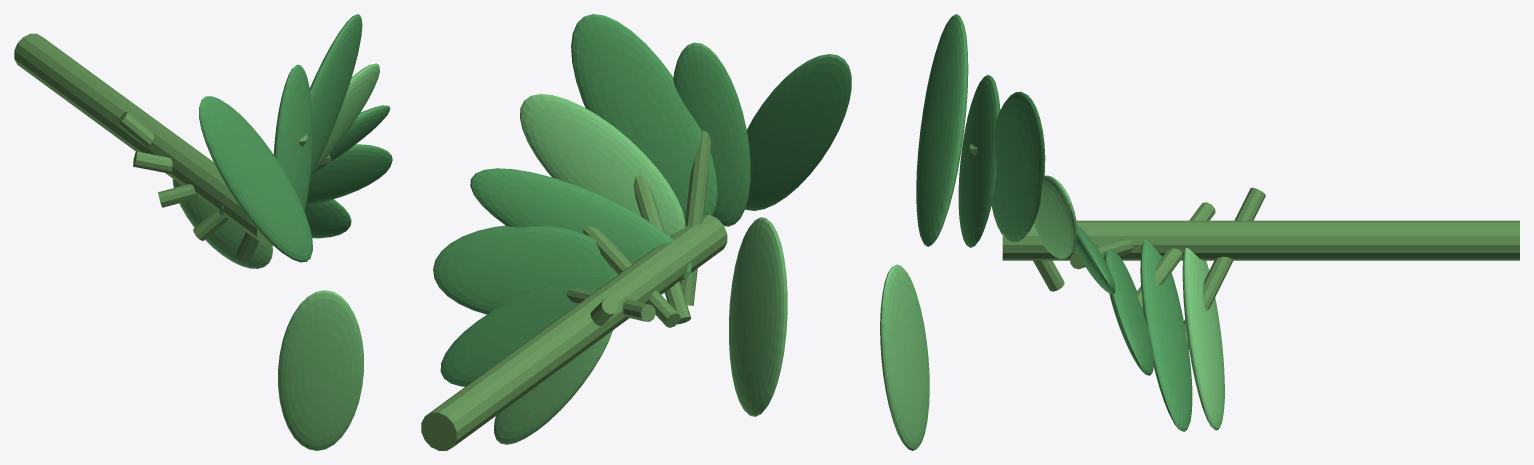
The model's file is potato_haulm.glb.
3 renders of one model, left to right at view 1: azimuth 30°, elevation 25°; view 2: azimuth 150°, elevation 25°; view 3: azimuth 270°, elevation 25°, orthographic. The views are drawn at different scales.
Visible parts, largest first — view 1: leaf_8, main_stem, leaf_7, leaf_5, leaf_6, leaf_2, leaf_0, leaf_4, leaf_1, leaf_3, branch_2, branch_0 (+3 smaller); view 2: main_stem, leaf_5, leaf_7, leaf_2, leaf_4, leaf_8, leaf_3, leaf_6, leaf_1, leaf_0, branch_4, branch_2 (+3 smaller); view 3: main_stem, leaf_7, leaf_8, leaf_5, leaf_1, leaf_6, leaf_0, leaf_2, leaf_4, branch_0, leaf_3, branch_1 (+2 smaller).
Boxes of the visible parts, left/top/right/bottom form: leaf_8: left=278, top=290, right=363, bottom=450; main_stem: left=14, top=33, right=272, bottom=245; leaf_7: left=199, top=96, right=312, bottom=262; leaf_5: left=309, top=14, right=362, bottom=177; leaf_6: left=273, top=64, right=312, bottom=211; leaf_2: left=306, top=144, right=392, bottom=205; leaf_0: left=172, top=179, right=272, bottom=268; leaf_4: left=313, top=63, right=379, bottom=171; leaf_1: left=305, top=199, right=351, bottom=238; leaf_3: left=219, top=105, right=390, bottom=215; branch_2: left=158, top=154, right=331, bottom=207; branch_0: left=117, top=111, right=154, bottom=147; main_stem: left=421, top=214, right=727, bottom=450; leaf_5: left=571, top=14, right=717, bottom=221; leaf_7: left=745, top=54, right=851, bottom=210; leaf_2: left=433, top=225, right=617, bottom=314; leaf_4: left=520, top=94, right=685, bottom=236; leaf_8: left=729, top=217, right=787, bottom=416; leaf_3: left=470, top=168, right=691, bottom=280; leaf_6: left=673, top=42, right=750, bottom=226; leaf_1: left=440, top=273, right=617, bottom=386; leaf_0: left=494, top=330, right=612, bottom=444; branch_4: left=680, top=130, right=711, bottom=305; branch_2: left=583, top=226, right=680, bottom=327; main_stem: left=1002, top=220, right=1519, bottom=260; leaf_7: left=916, top=14, right=968, bottom=246; leaf_8: left=880, top=264, right=929, bottom=450; leaf_5: left=991, top=91, right=1045, bottom=242; leaf_1: left=1140, top=240, right=1192, bottom=431; leaf_6: left=958, top=75, right=1000, bottom=247; leaf_0: left=1182, top=248, right=1224, bottom=430; leaf_2: left=1104, top=249, right=1153, bottom=375; leaf_4: left=1034, top=175, right=1077, bottom=258; branch_0: left=1183, top=187, right=1265, bottom=349; leaf_3: left=1075, top=224, right=1115, bottom=294; branch_1: left=1136, top=202, right=1215, bottom=309.
Size of the model in its own units: 0.2419 by 0.3079 by 0.4453.
